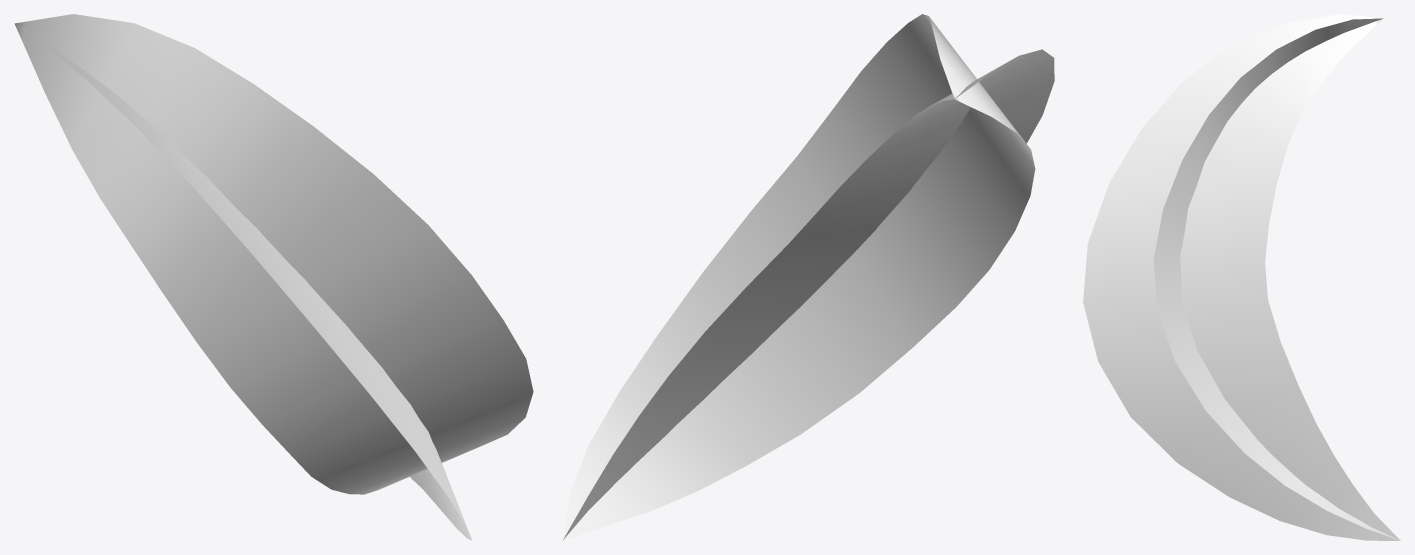
File: fx_fbx_skill_npc_1047_01.FBX
The picture shows the model from 3 angles, left to right: view 1: azimuth 30°, elevation 25°; view 2: azimuth 150°, elevation 25°; view 3: azimuth 270°, elevation 25°; orthographic projection. The views are drawn at different scales.
Parts seen in each view (by area): view 1: 2009_skill3_L_trail; view 2: 2009_skill3_L_trail; view 3: 2009_skill3_L_trail.
Boxes of the visible parts, x1,y1,x2,y2 form: 2009_skill3_L_trail: (14,14,533,540); 2009_skill3_L_trail: (562,14,1054,540); 2009_skill3_L_trail: (1083,14,1400,540).
Bounding box in the file's own units: 449 × 411 × 571.
Materials: 1 (1 with a texture image).
